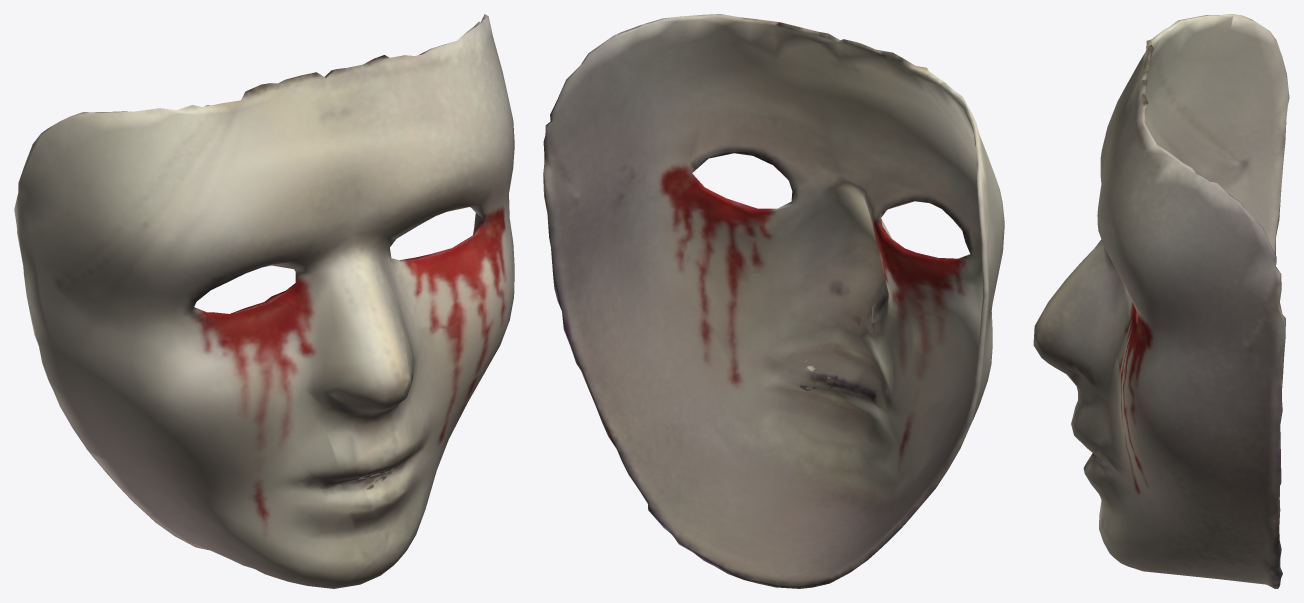
Rendered from bloody_eyes.glb.
3 renders of one model, left to right at view 1: azimuth 30°, elevation 25°; view 2: azimuth 150°, elevation 25°; view 3: azimuth 270°, elevation 25°, orthographic. The views are drawn at different scales.
Parts seen in each view (by area): view 1: geo1; view 2: geo1; view 3: geo1.
Boxes of the visible parts, x1,y1,x2,y2 form: geo1: (14, 14, 514, 588); geo1: (543, 14, 1004, 588); geo1: (1033, 14, 1289, 588).
Bounding box in the file's own units: 0.1805 × 0.1941 × 0.0915.
1 material, 1 textured.
